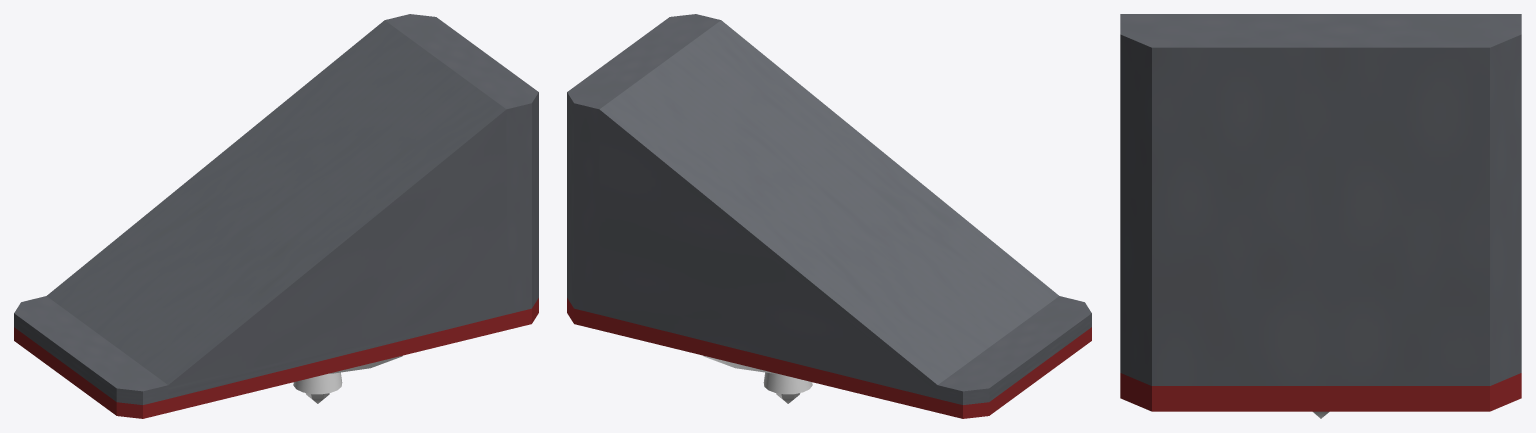
Rendered from ramp.fbx.
3 views of the same model, side by side, from view 1: azimuth 30°, elevation 25°; view 2: azimuth 150°, elevation 25°; view 3: azimuth 270°, elevation 25° (orthographic). The views are drawn at different scales.
Parts seen in each view (by area): view 1: Cube.002, Booster.002; view 2: Cube.002, Booster.002; view 3: Cube.002.
Boxes of the visible parts, <box> form: Cube.002: <box>14,14,538,418</box>; Booster.002: <box>293,355,402,403</box>; Cube.002: <box>567,14,1091,418</box>; Booster.002: <box>703,355,812,403</box>; Cube.002: <box>1120,14,1521,411</box>.
Bounding box in the file's own units: 400 × 279 × 200.
4 materials, 2 textured.
